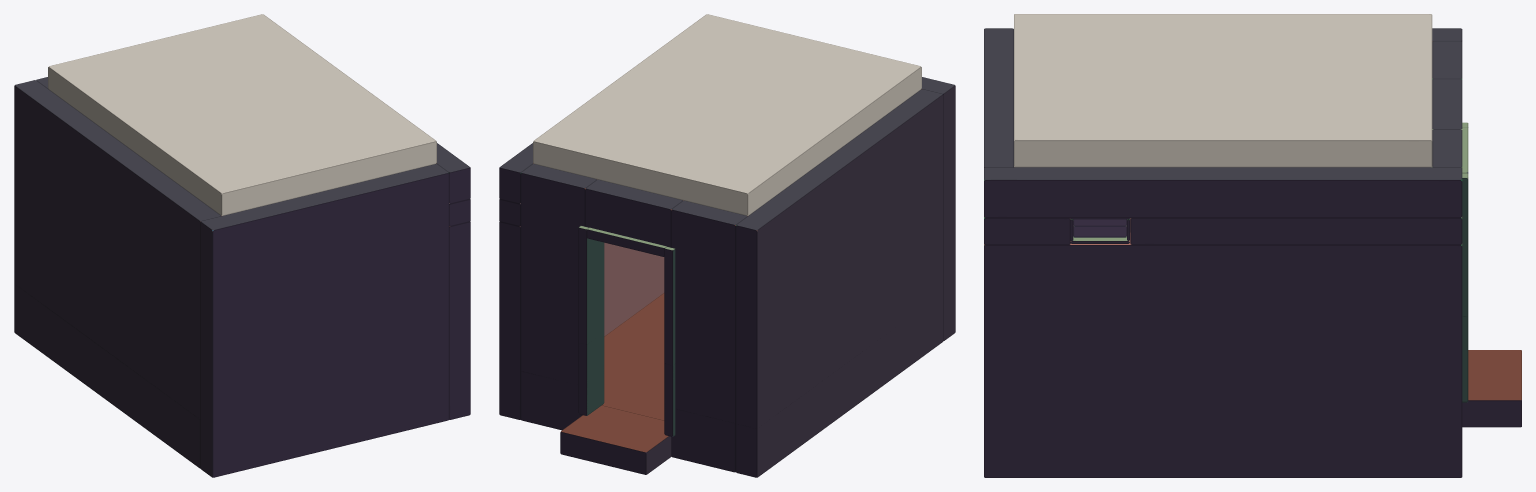
Rendered from Restroom.fbx.
The picture shows the model from 3 angles, left to right: view 1: azimuth 30°, elevation 25°; view 2: azimuth 150°, elevation 25°; view 3: azimuth 270°, elevation 25°; orthographic projection. The views are drawn at different scales.
Visible parts, largest first — view 1: wall behind_1, wall behind_7, cuboid_4, wall behind_4, wall behind, wall behind_9, wall behind_11; view 2: wall behind_7, cuboid_4, wall behind_6, wall behind_5, wall behind, frames_2, cuboid, cuboid_1, wall behind_8, wall behind_1, wall behind_4, wall behind_3 (+4 smaller); view 3: wall behind, cuboid_4, wall behind_9, wall behind_10, cuboid_1, wall behind_1, wall behind_11, frames_2, wall behind_8, wall behind_5, wall behind_6, frames (+1 smaller).
Boxes of the visible parts, box(x1,y1,x2,y2) form: wall behind_1: box(200, 164, 449, 477); wall behind_7: box(14, 80, 221, 468); cuboid_4: box(48, 14, 436, 215); wall behind_4: box(14, 284, 200, 467); wall behind: box(449, 221, 470, 419); wall behind_9: box(436, 143, 470, 203); wall behind_11: box(449, 199, 470, 226); wall behind_7: box(735, 89, 943, 477); cuboid_4: box(533, 14, 921, 215); wall behind_6: box(671, 200, 747, 472); wall behind_5: box(520, 164, 596, 430); wall behind: box(499, 179, 683, 419); frames_2: box(578, 226, 675, 436); cuboid: box(602, 293, 664, 420); cuboid_1: box(560, 405, 671, 474); wall behind_8: box(585, 179, 682, 248); wall behind_1: box(747, 77, 955, 341); wall behind_4: box(735, 315, 942, 476); wall behind_3: box(671, 409, 735, 471); wall behind: box(984, 232, 1462, 477); cuboid_4: box(1014, 14, 1432, 167); wall behind_9: box(984, 167, 1462, 217); wall behind_10: box(1130, 217, 1462, 244); cuboid_1: box(1462, 350, 1521, 427); wall behind_1: box(984, 28, 1013, 218); wall behind_11: box(984, 218, 1070, 244); frames_2: box(1432, 122, 1468, 402); wall behind_8: box(1432, 79, 1462, 167); wall behind_5: box(1432, 129, 1462, 245); wall behind_6: box(1432, 41, 1462, 79); frames: box(1070, 218, 1129, 243).
Bounding box in the file's own units: 750 × 750 × 1125.
4 materials, 4 textured.
